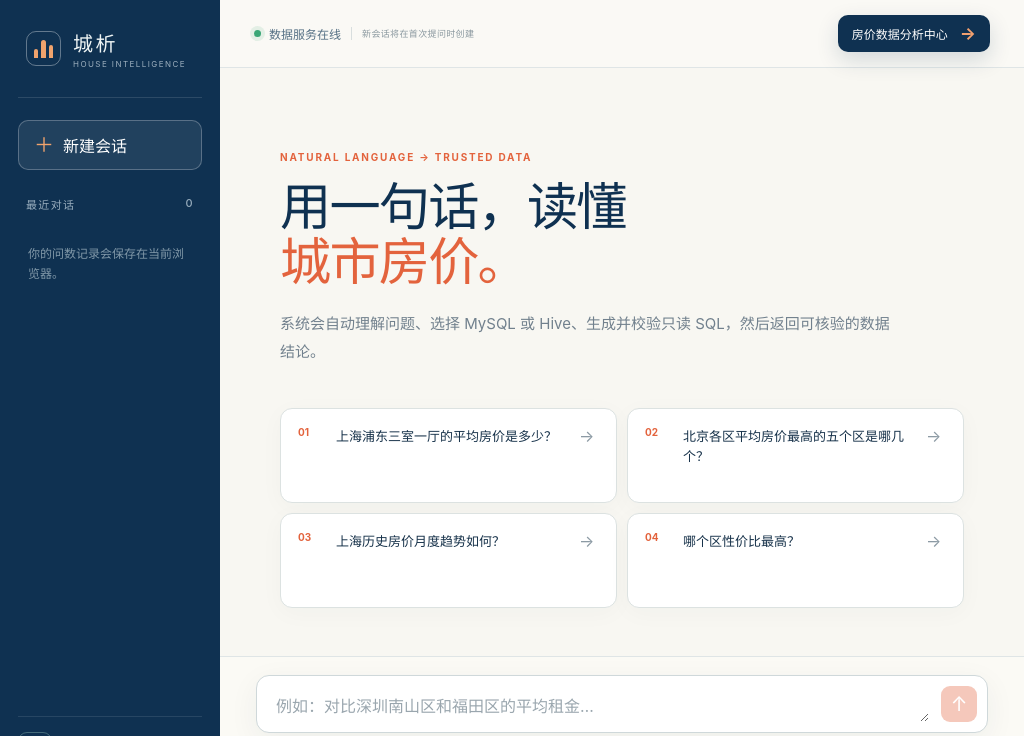
it: App conversations › reuses the same thread on the second question
Type "第一问" into the text box with placeholder "例如：对比深圳南山区和福田区的平均租金…". click: coordinates (602, 707)
box: [274,692,929,722]
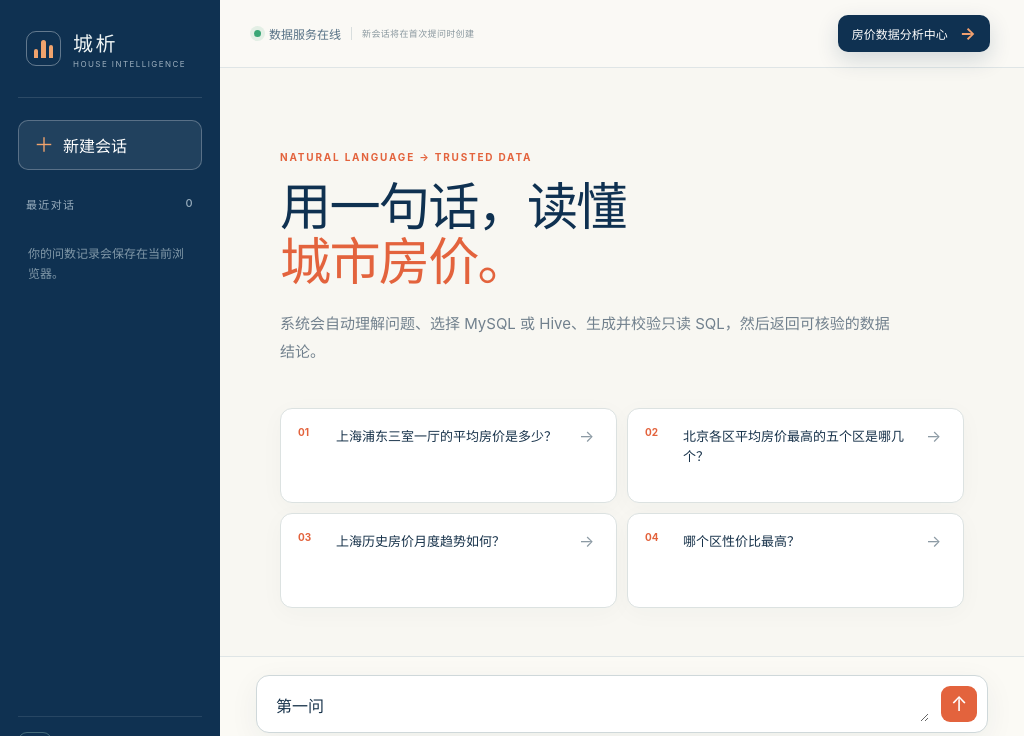
Click the button named "发送问题". click: coordinates (959, 704)
box: [941,686,977,722]
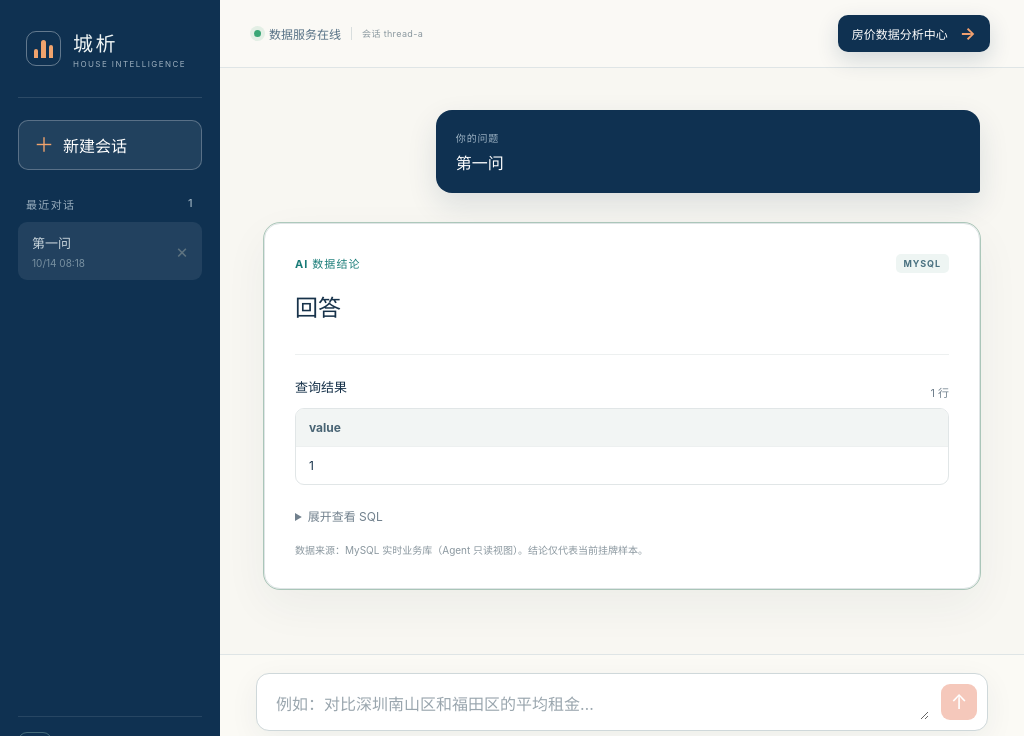
expect the heading "回答" is shown: met, box [295,296,341,321]
Type "第二问" into the text box with placeholder "例如：对比深圳南山区和福田区的平均租金…". click: coordinates (602, 705)
box: [274,690,929,720]
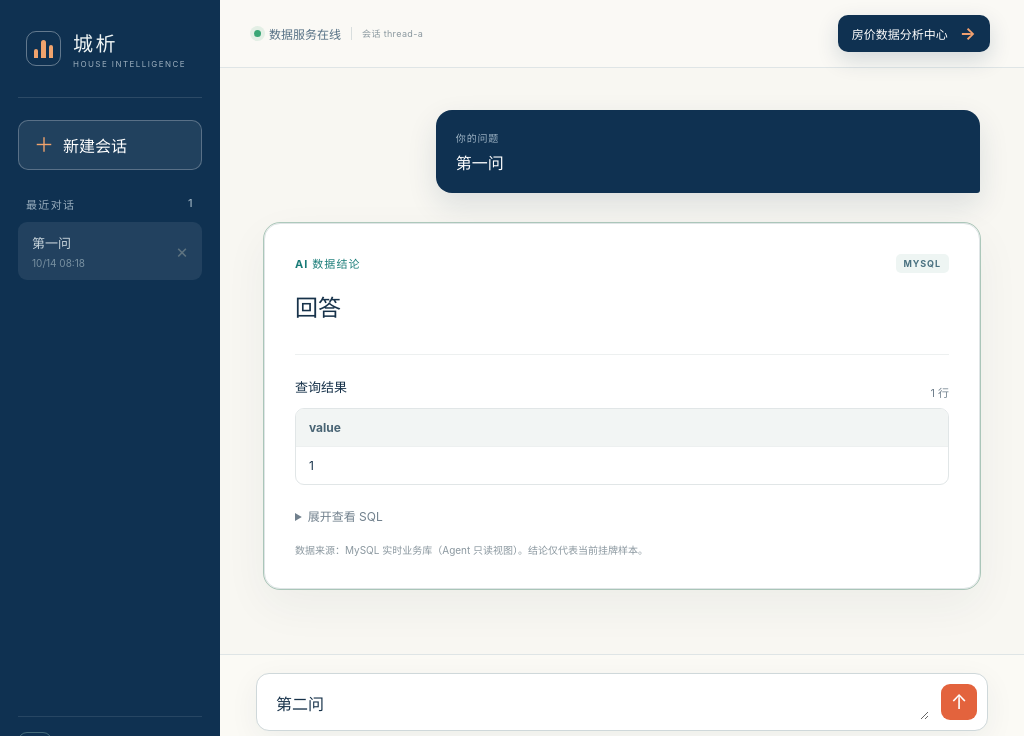
Click the button named "发送问题". click: coordinates (959, 702)
box: [941,684,977,720]
(page scrolled)
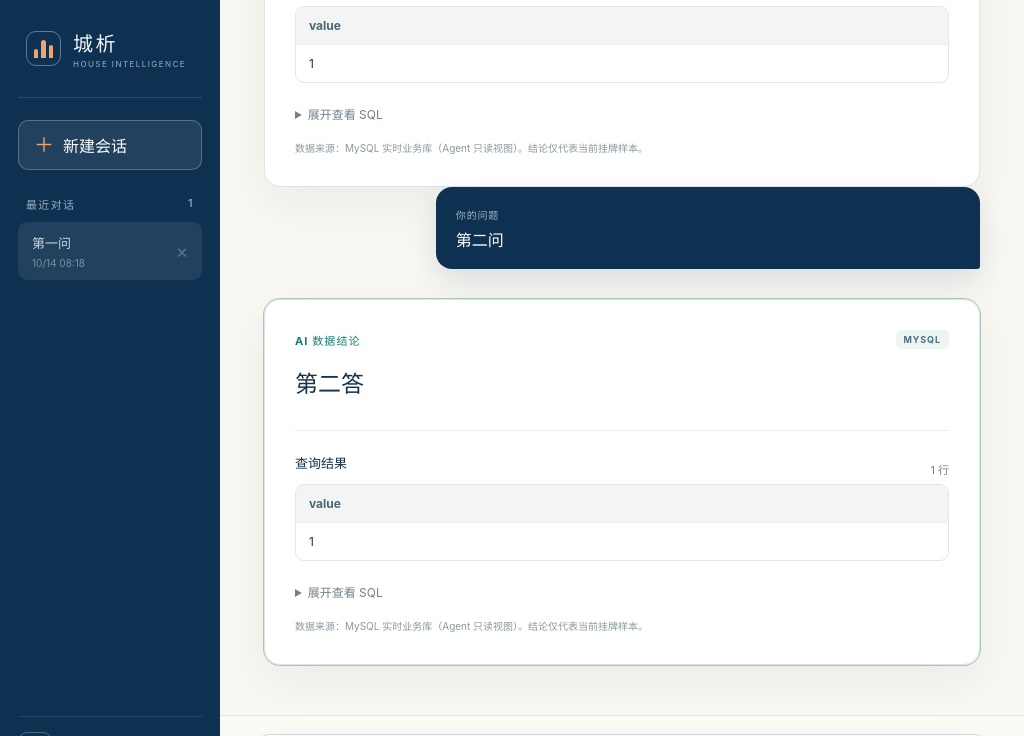
expect the heading "第二答" is shown: met, box [295,372,364,397]
